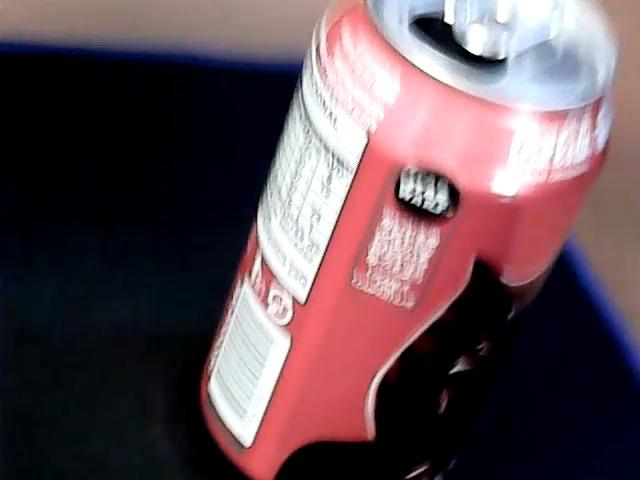coke: (205, 0, 617, 479)
